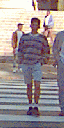person: (17, 16, 46, 120)
